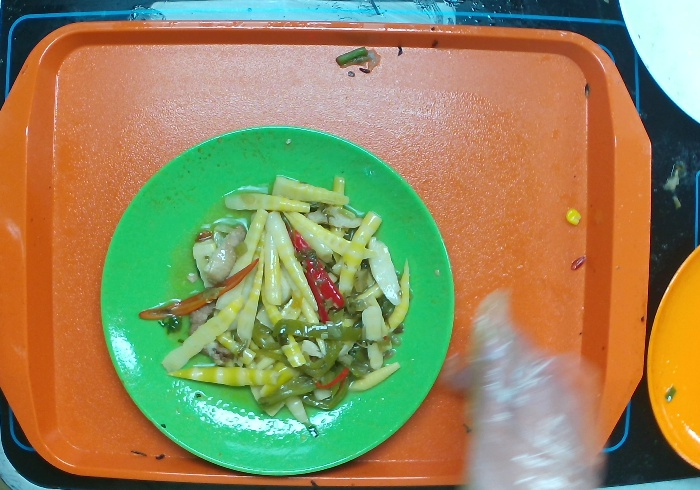HZYJPL-Lv_Se_Yuan_Pan: (101, 125, 455, 478)
